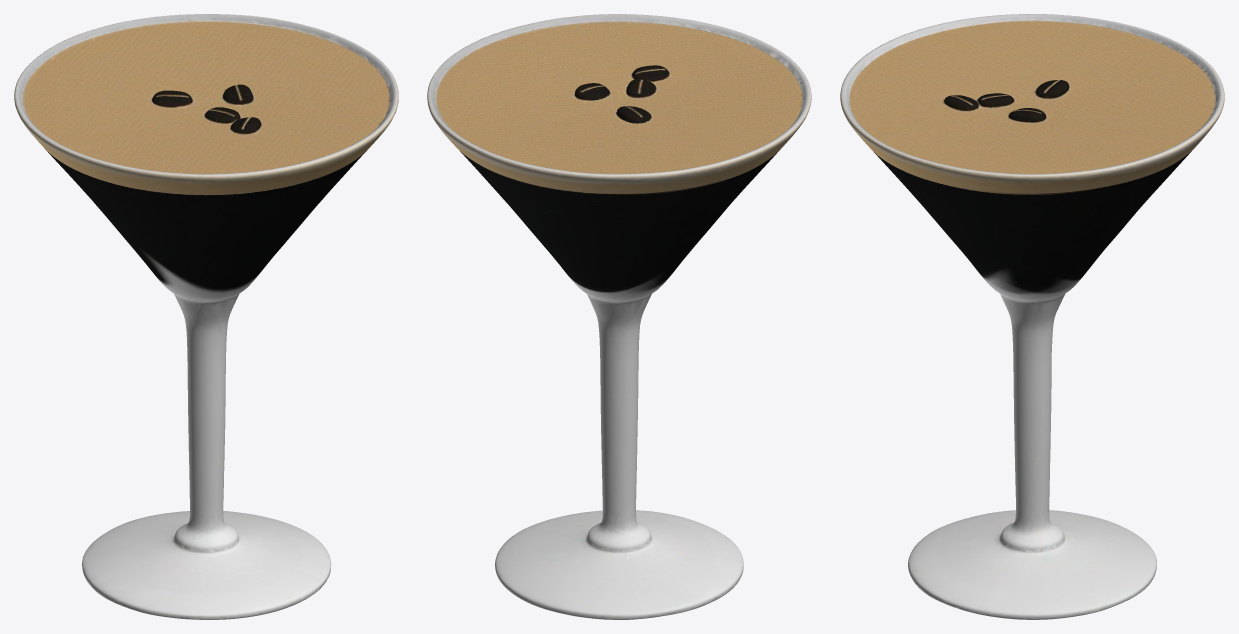
File: espresso-martini.glb
The picture shows the model from 3 angles, left to right: view 1: azimuth 30°, elevation 25°; view 2: azimuth 150°, elevation 25°; view 3: azimuth 270°, elevation 25°; orthographic projection.
Visible parts, largest first — view 1: mesh_node; view 2: mesh_node; view 3: mesh_node.
Boxes of the visible parts, x1,y1,x2,y2 form: mesh_node: [14, 14, 398, 619]; mesh_node: [427, 14, 811, 619]; mesh_node: [840, 14, 1224, 619].
Size of the model in its own units: 0.0882 by 0.12 by 0.0881.
1 material, 1 textured.
